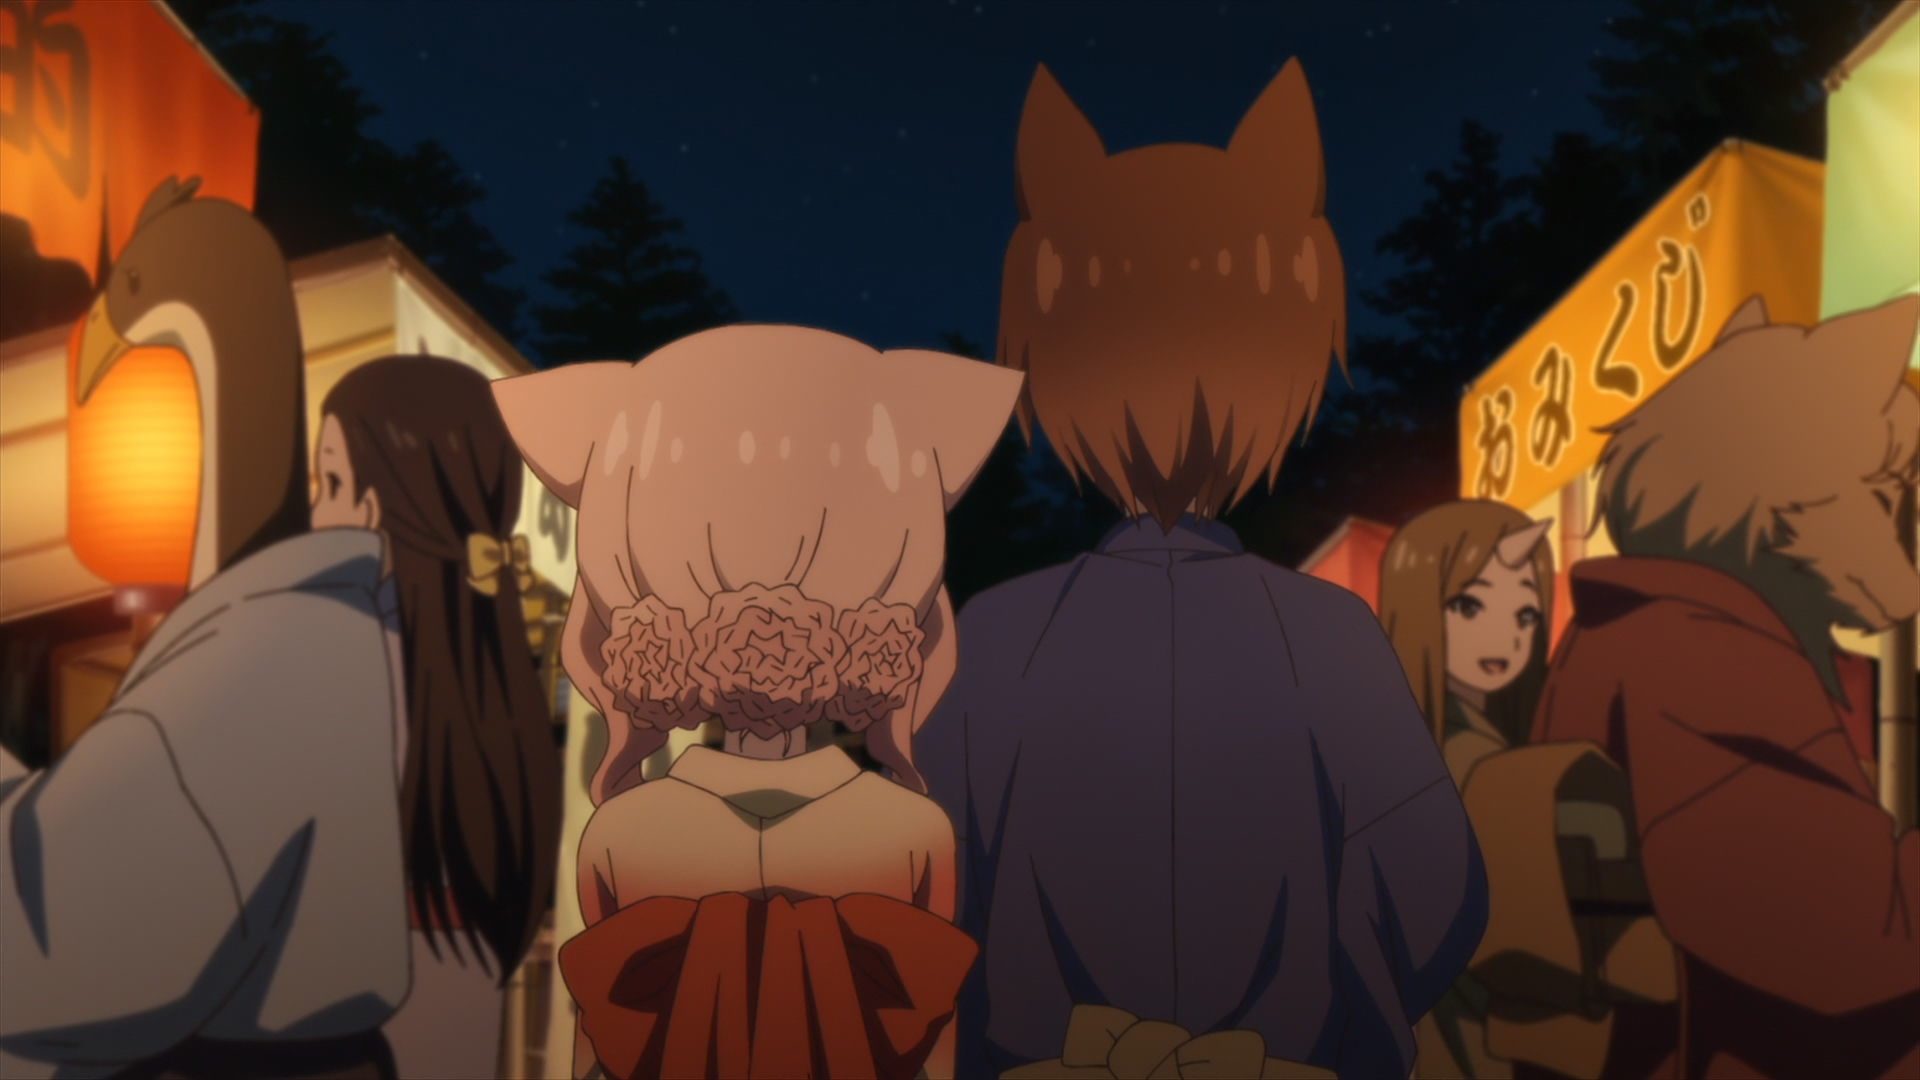其他: (1, 175, 410, 1080), (1462, 291, 1920, 1080), (313, 355, 562, 1080), (1375, 498, 1557, 793)
枣: (914, 58, 1489, 1080)
莲: (491, 323, 1025, 1080)
